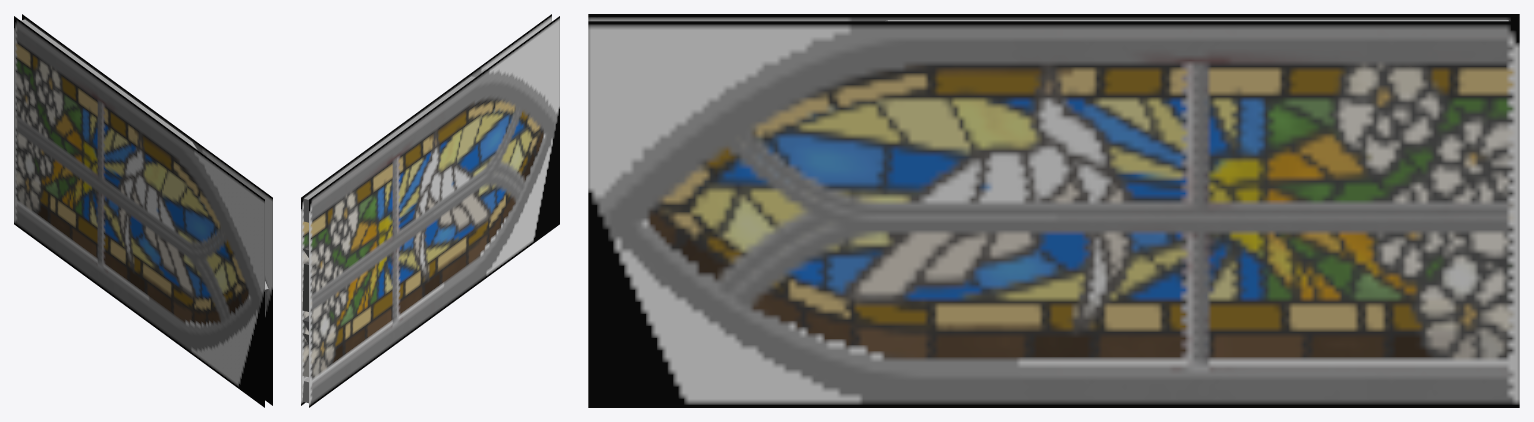
The model's file is pz_native_location_community_church_small_01_114_frame.obj.
3 views of the same model, side by side, from view 1: azimuth 30°, elevation 25°; view 2: azimuth 150°, elevation 25°; view 3: azimuth 270°, elevation 25° (orthographic). The views are drawn at different scales.
Visible parts, largest first — view 1: pz_native_location_community_church_small_01_114_frame; view 2: pz_native_location_community_church_small_01_114_frame; view 3: pz_native_location_community_church_small_01_114_frame.
Boxes of the visible parts, x1,y1,x2,y2 form: pz_native_location_community_church_small_01_114_frame: (14, 14, 272, 407); pz_native_location_community_church_small_01_114_frame: (301, 14, 559, 407); pz_native_location_community_church_small_01_114_frame: (588, 14, 1519, 407).
Size of the model in its own units: 0.04 by 1 by 2.18.
Materials: 1 (1 with a texture image).
